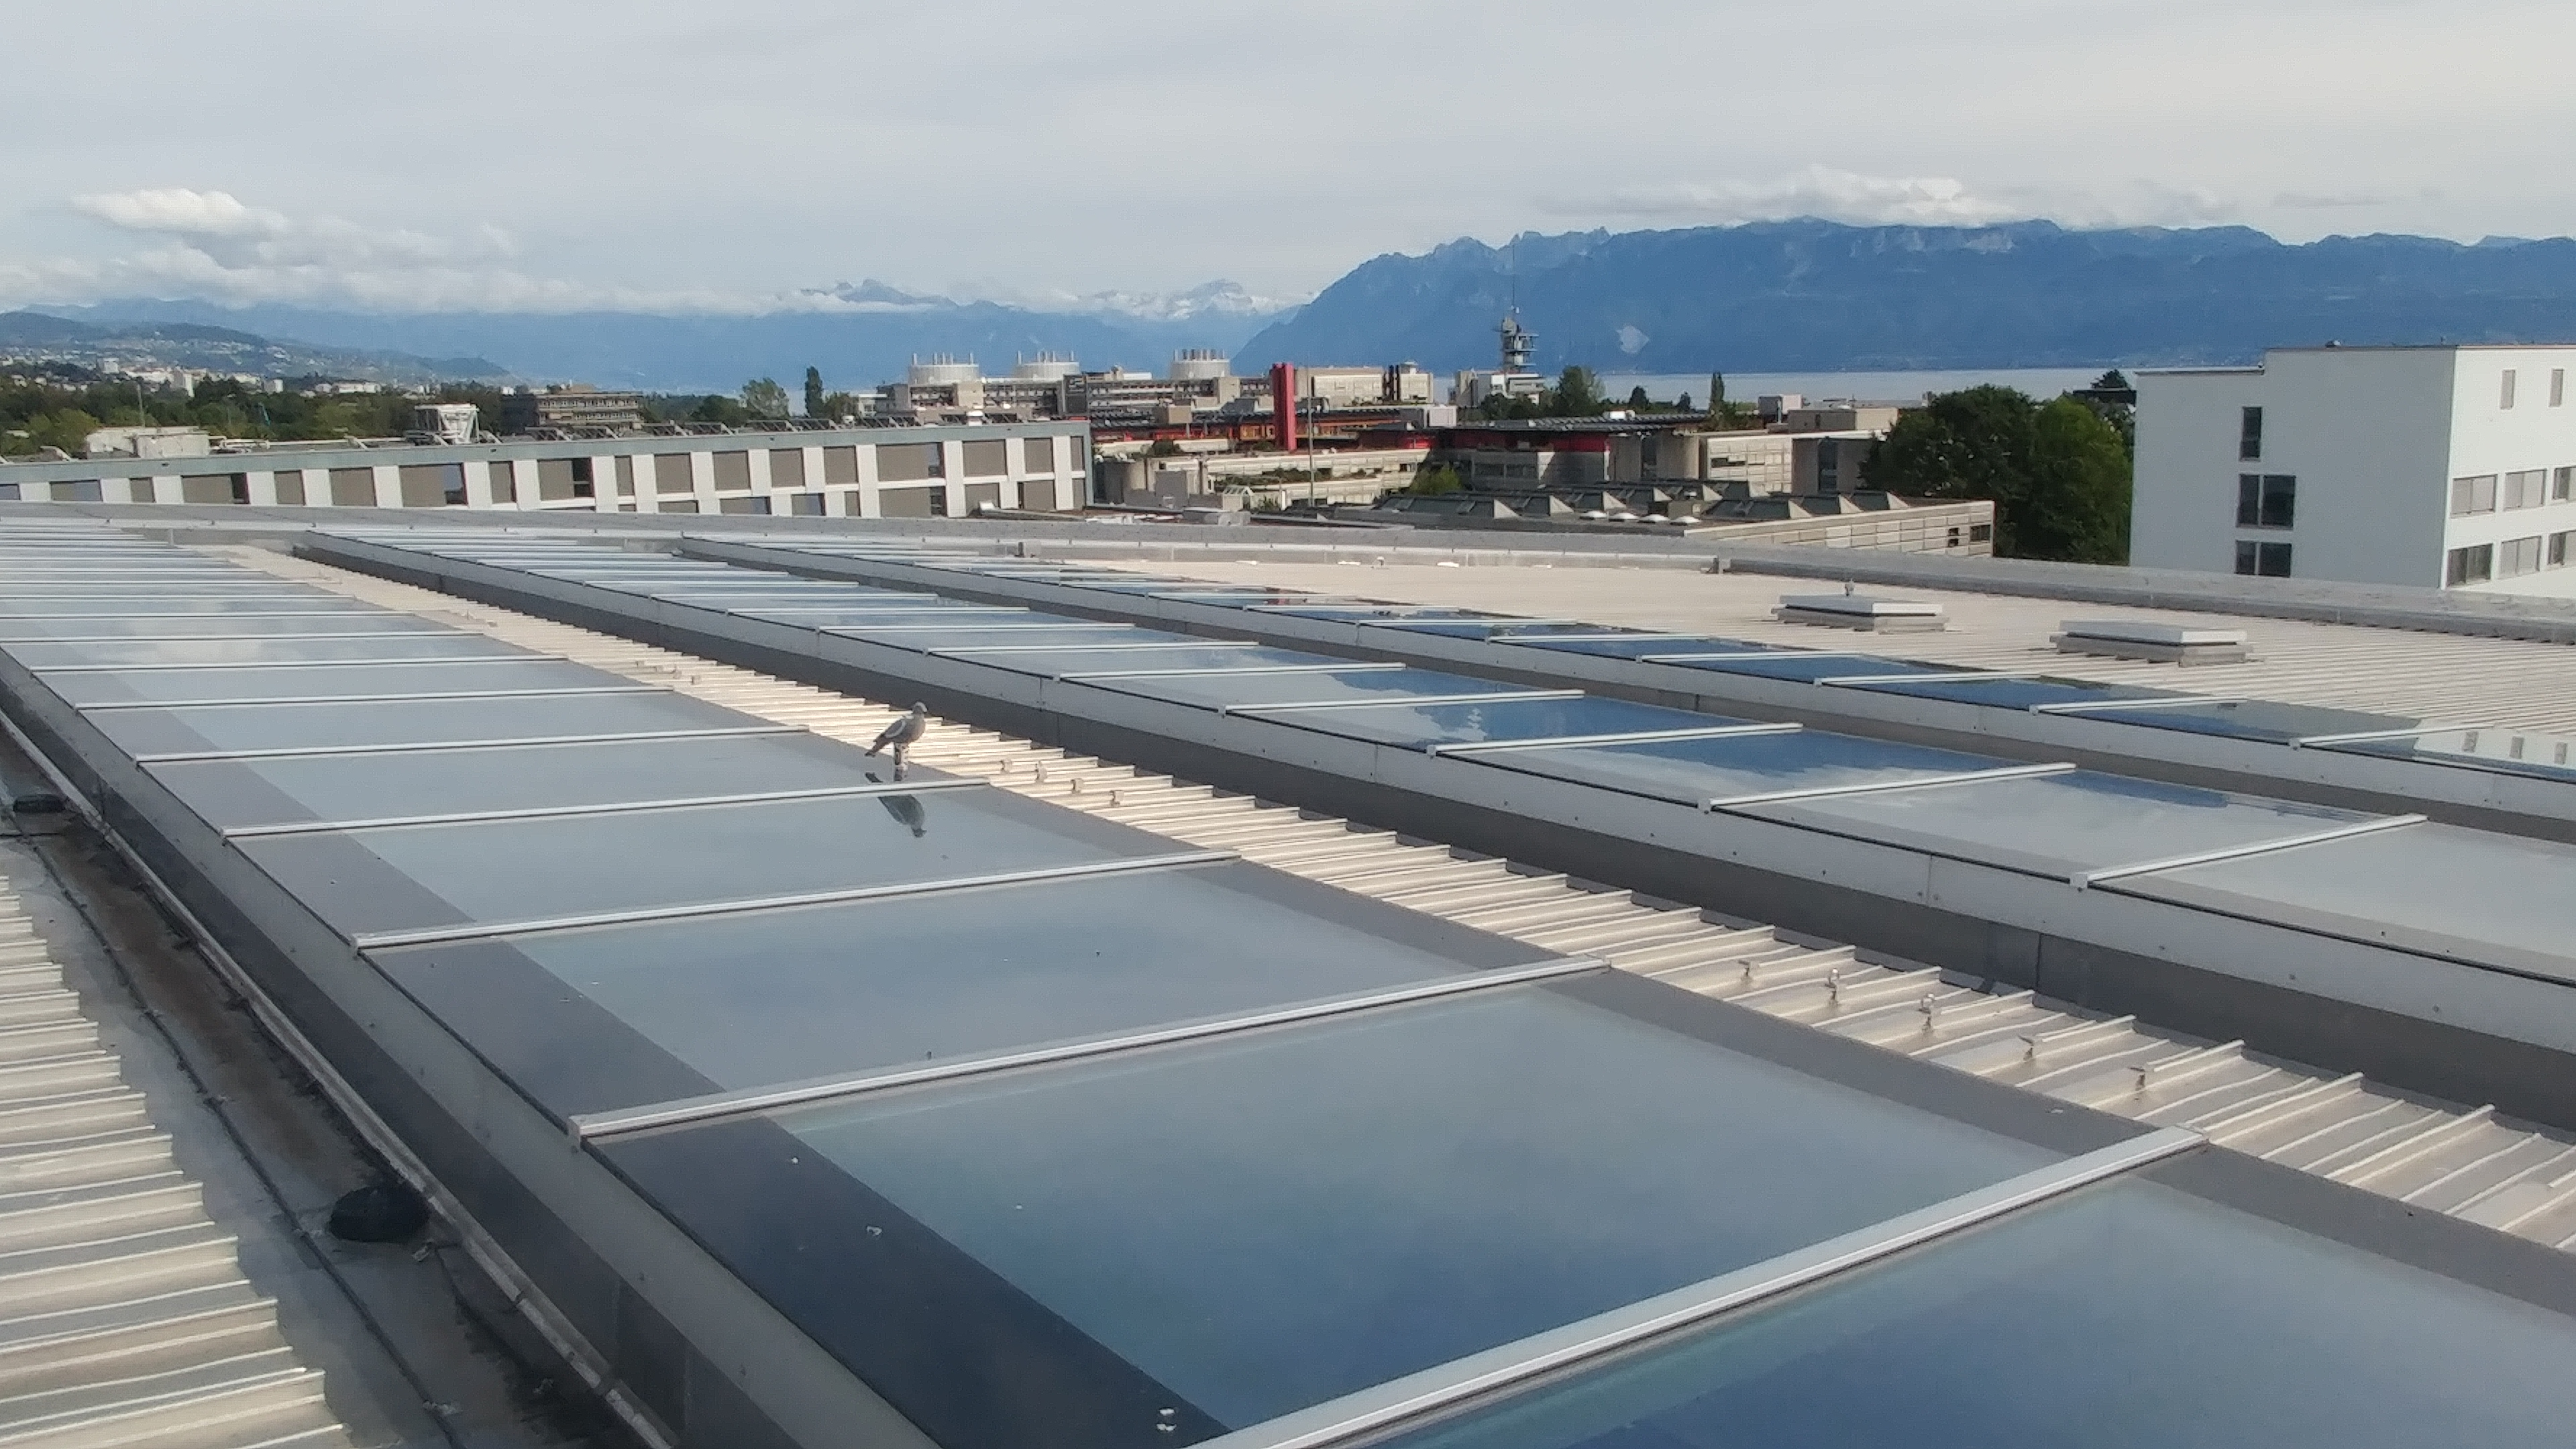Pigeon: (856, 697, 932, 775)
